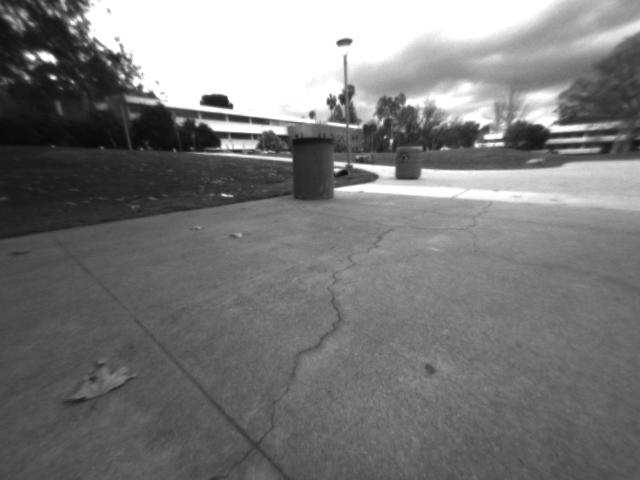trashcan: (289, 134, 338, 202), (395, 145, 421, 182)
